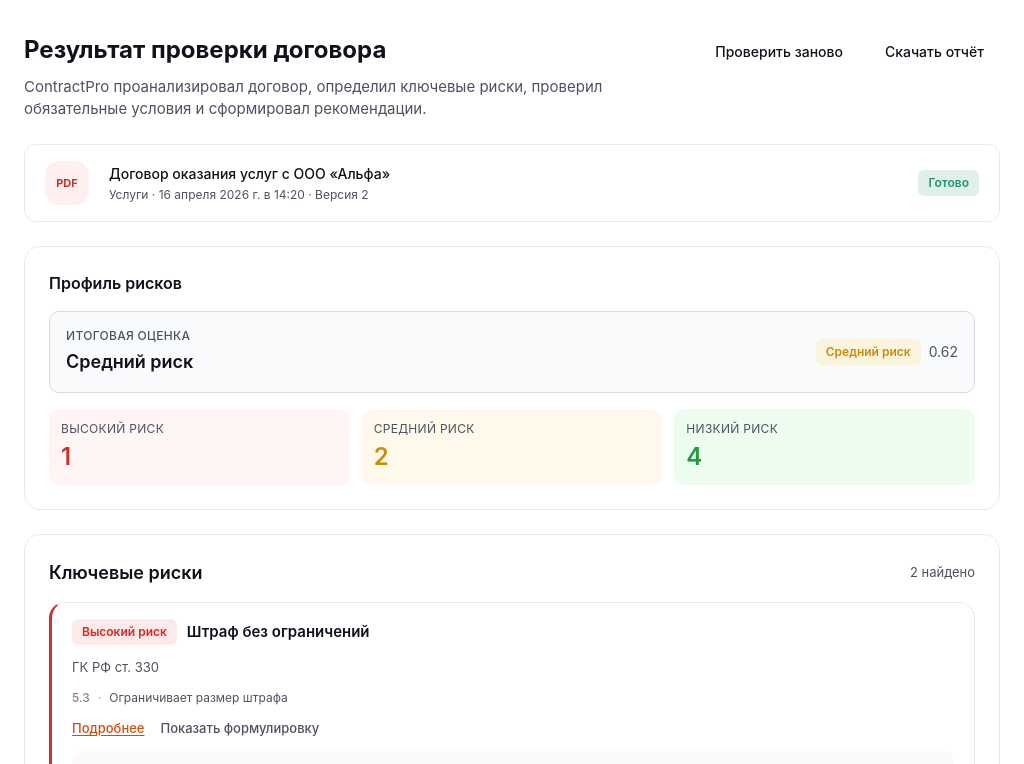
Test case: ResultPage › RiskDetailsDrawer — клик по риску открывает drawer с описанием
Click the button with test id "risks-list-item-button" at (108,729), box [72,719,144,738]
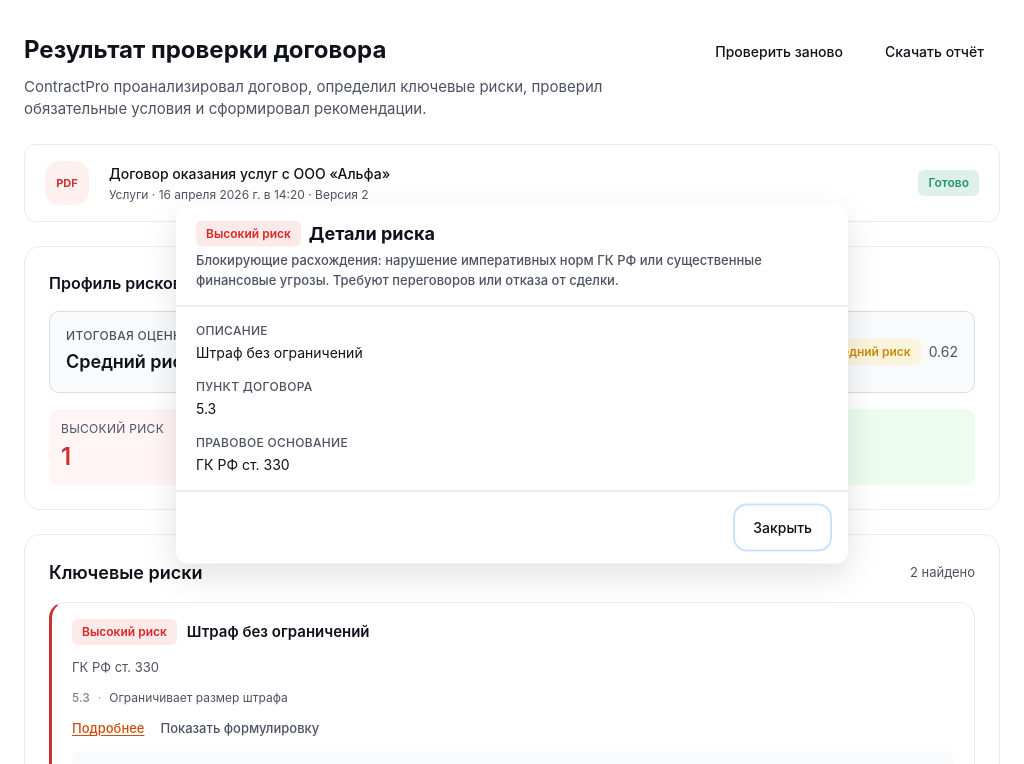
Result: the dialog with test id "risk-details-drawer" is shown at [176,204,848,564]
Result: the text with test id "risk-details-description-value" reads "Штраф без ограничений" at [196,344,363,360]
